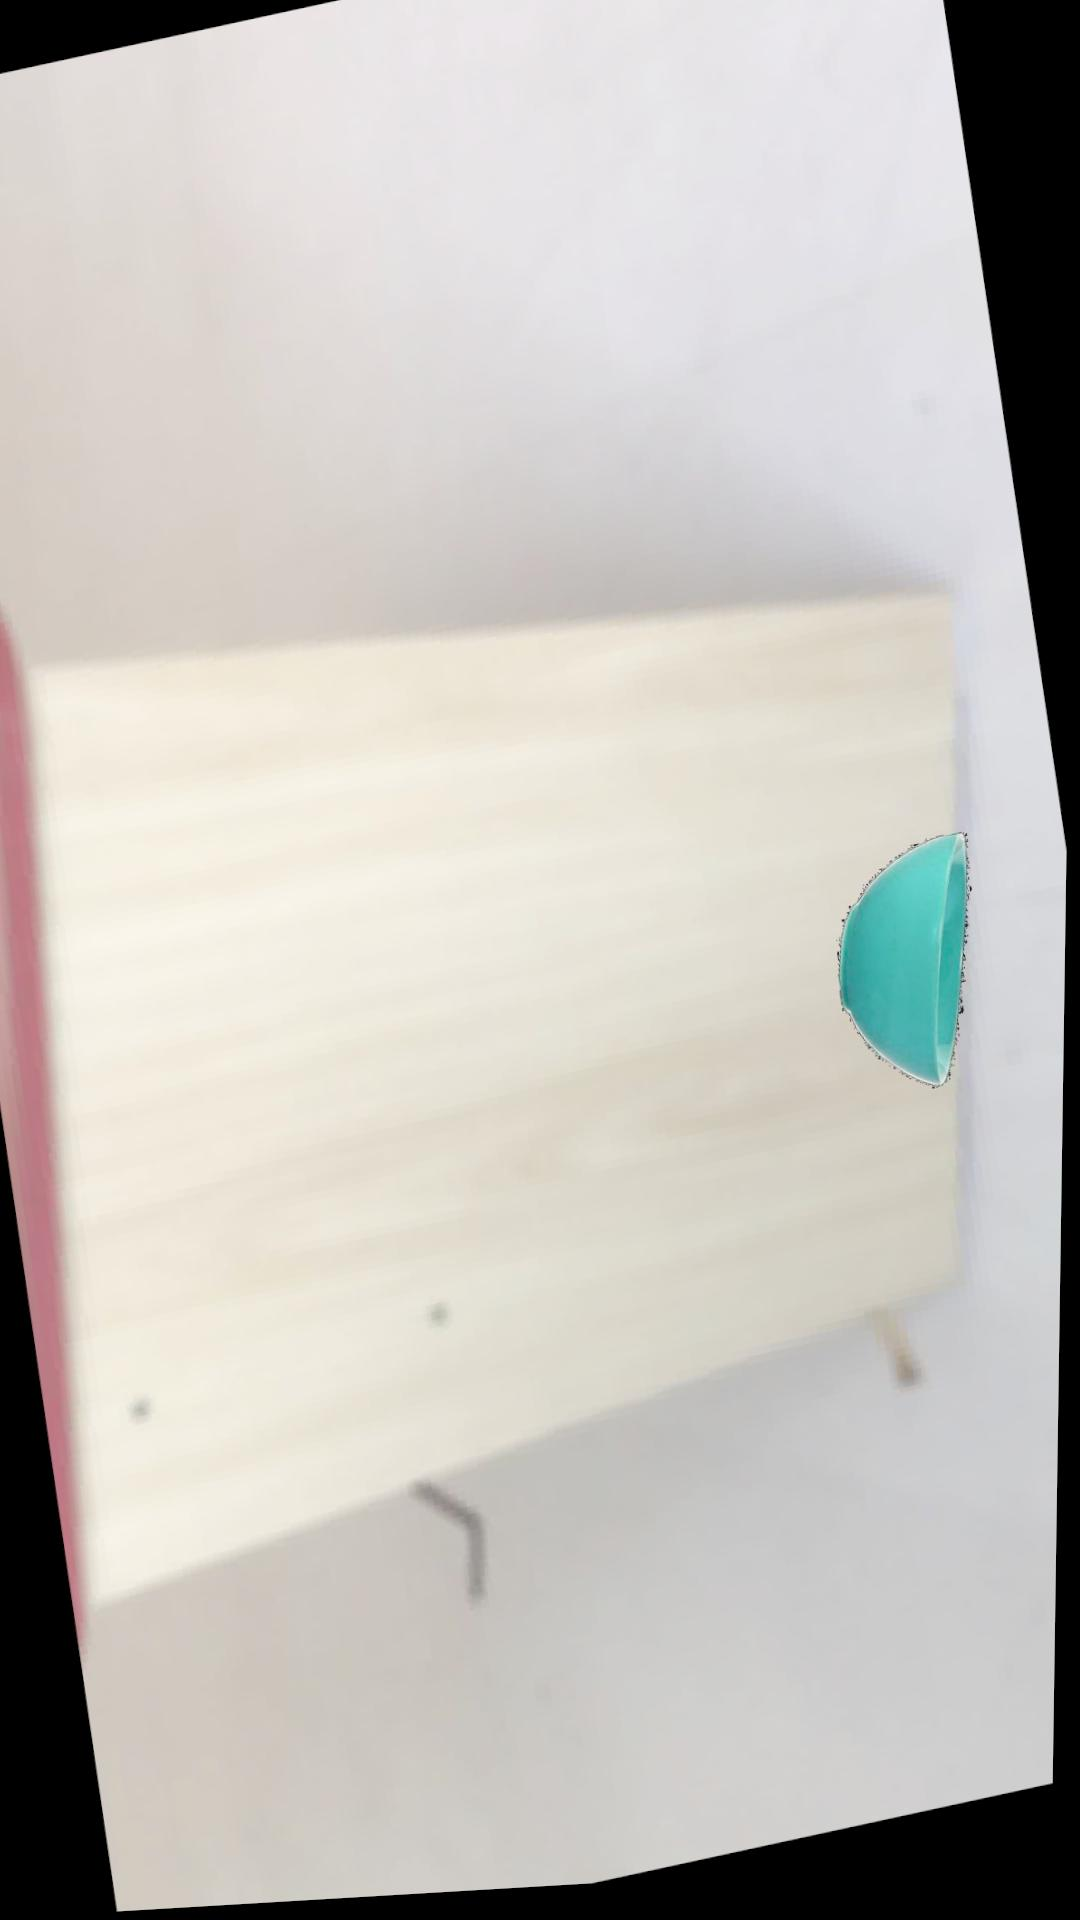bowl: (841, 843, 973, 1096)
